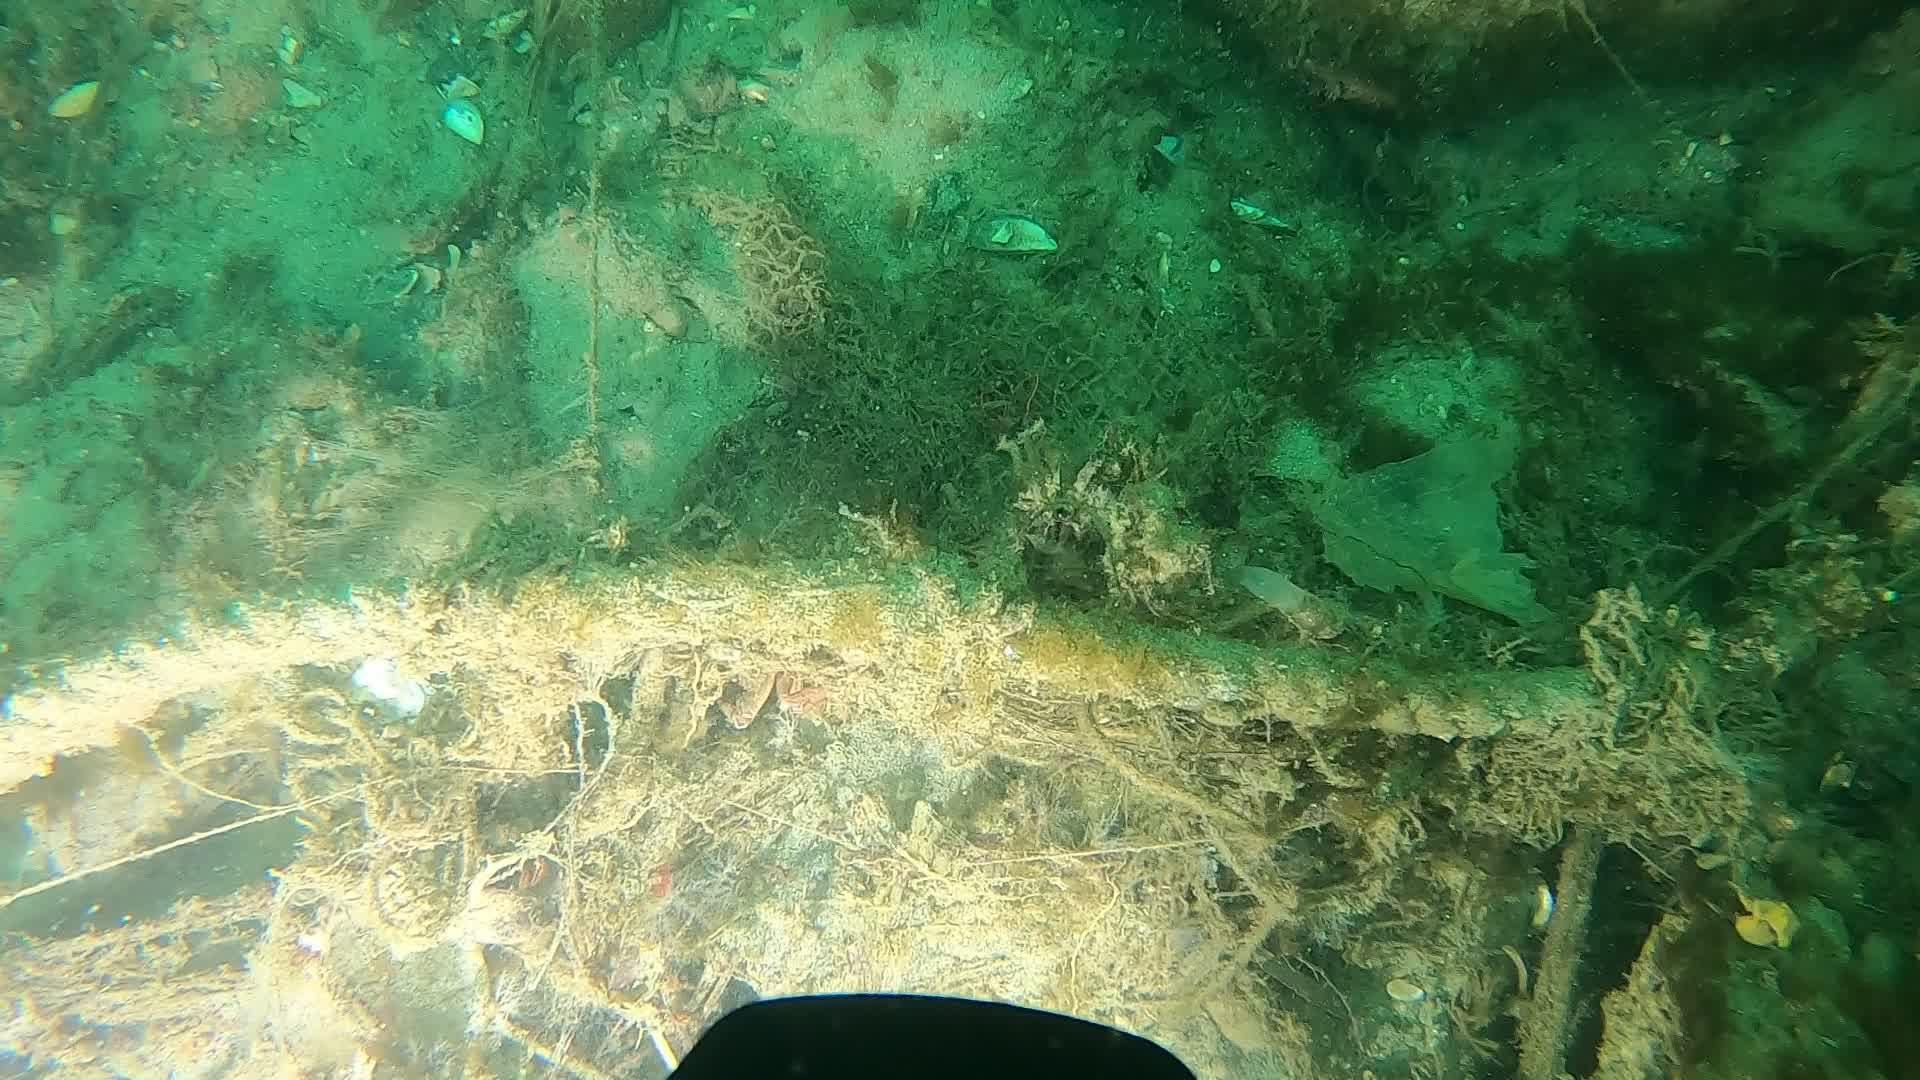fish net: (687, 186, 1184, 427)
rope: (0, 553, 1607, 789)
